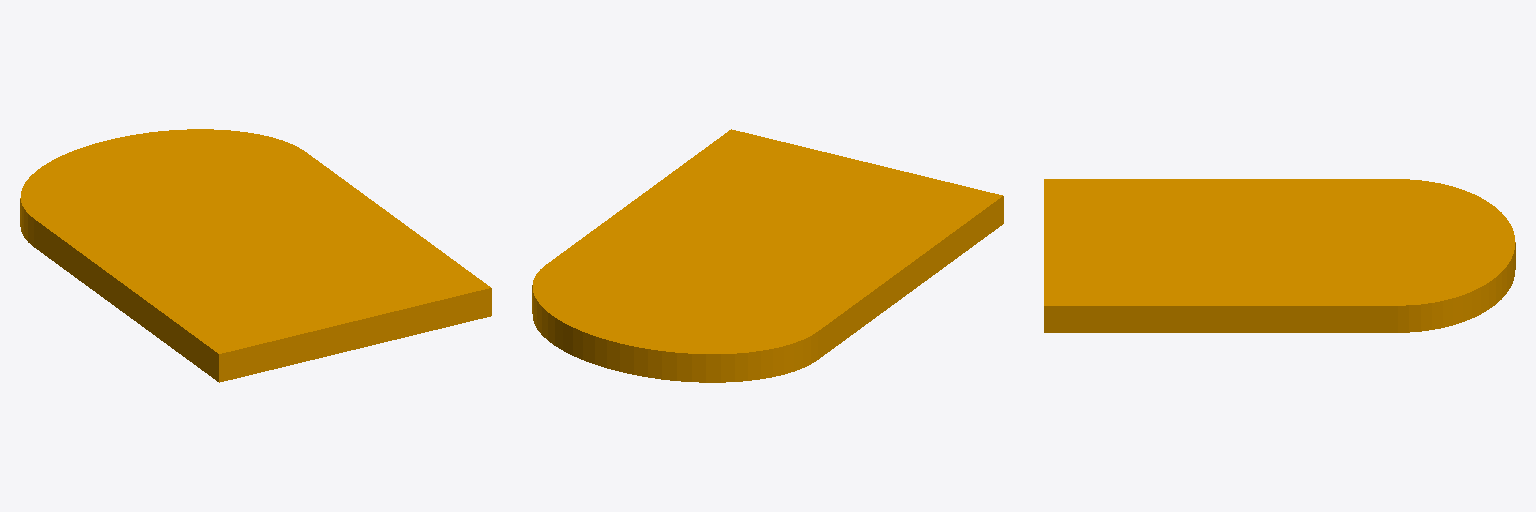
robot.urdf — surface:
<?xml version="0.0" ?>
<robot name="surface">
  <link name="body">
    <visual>
      <geometry>
        <mesh filename="obj/surface.obj" scale=".1 .085 .1"/>
      </geometry>
      <origin rpy="0 0 0" xyz="0 0 0"/>
    </visual>
    <collision>
      <geometry>
        <mesh filename="obj/surface.obj" scale=".1 .085 .1"/>
      </geometry>
      <origin rpy="0 0 0" xyz="0 0 0"/>
    </collision>
    <inertial>
      <mass value="1"/>
      <inertia ixx="1" ixy="0" ixz="0" iyy="1" iyz="0" izz="1"/>
      <origin rpy="0 0 0" xyz="0 0 0"/>
    </inertial>
  </link>

</robot>

--- What the picture shows (computed from the rendered views, not written in the file) ---
3 views of the same robot in one strip: view 1: azimuth 30°, elevation 25°; view 2: azimuth 150°, elevation 25°; view 3: azimuth 270°, elevation 25° (orthographic).
Model surface with 1 links and 0 joints (none), rooted at body, posed every joint at zero.
Links seen in each view (by area): view 1: body; view 2: body; view 3: body.
Boxes of the visible links, box(x1,y1,x2,y2) form: body: box(20, 129, 491, 382); body: box(532, 129, 1003, 382); body: box(1044, 179, 1515, 332).
Bounding box of the posed robot: 2 × 3.15 × 0.2 m (x, y, z).
1 mesh visuals loaded from 1 distinct referenced files (1 OBJ).